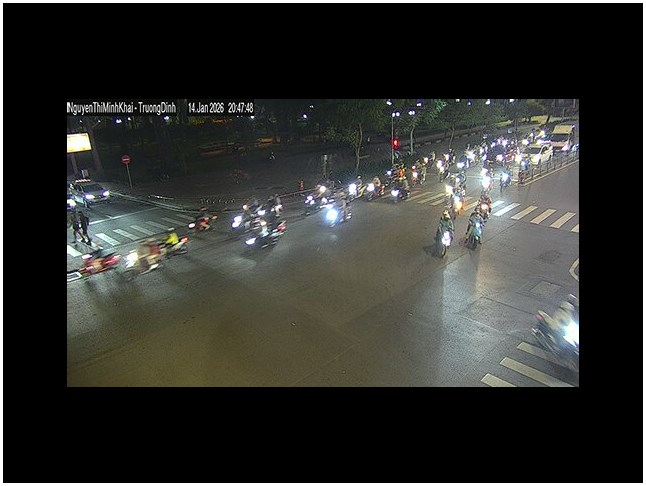car: (72, 181, 110, 206)
motorbike: (242, 216, 287, 251)
